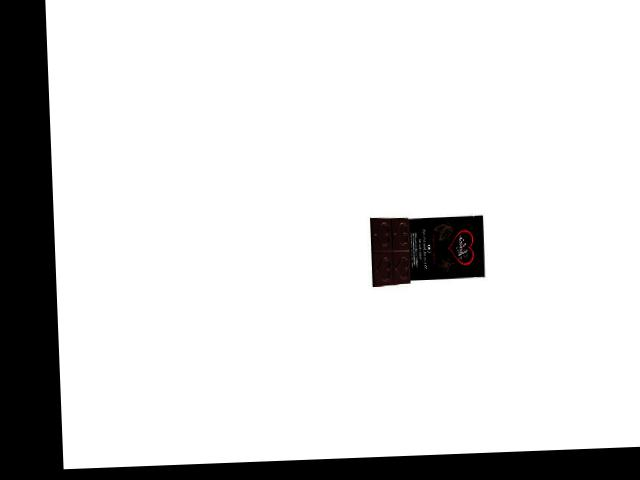chocolate: (365, 211, 486, 292)
